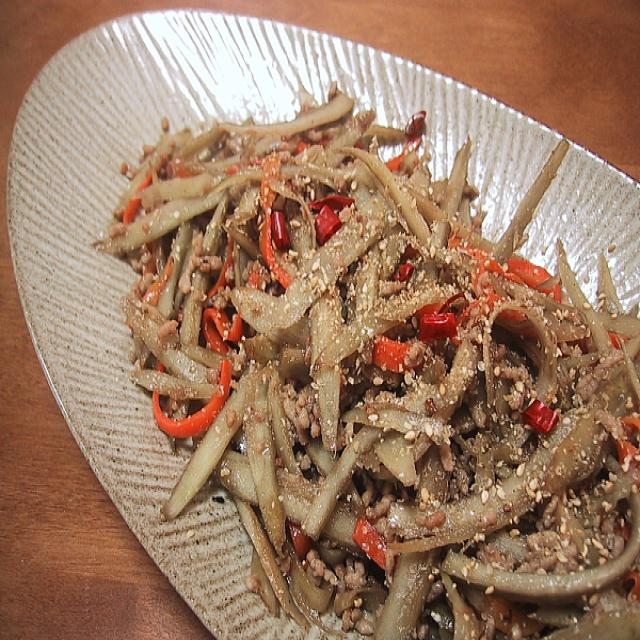蔬菜料理: (73, 61, 640, 640)
